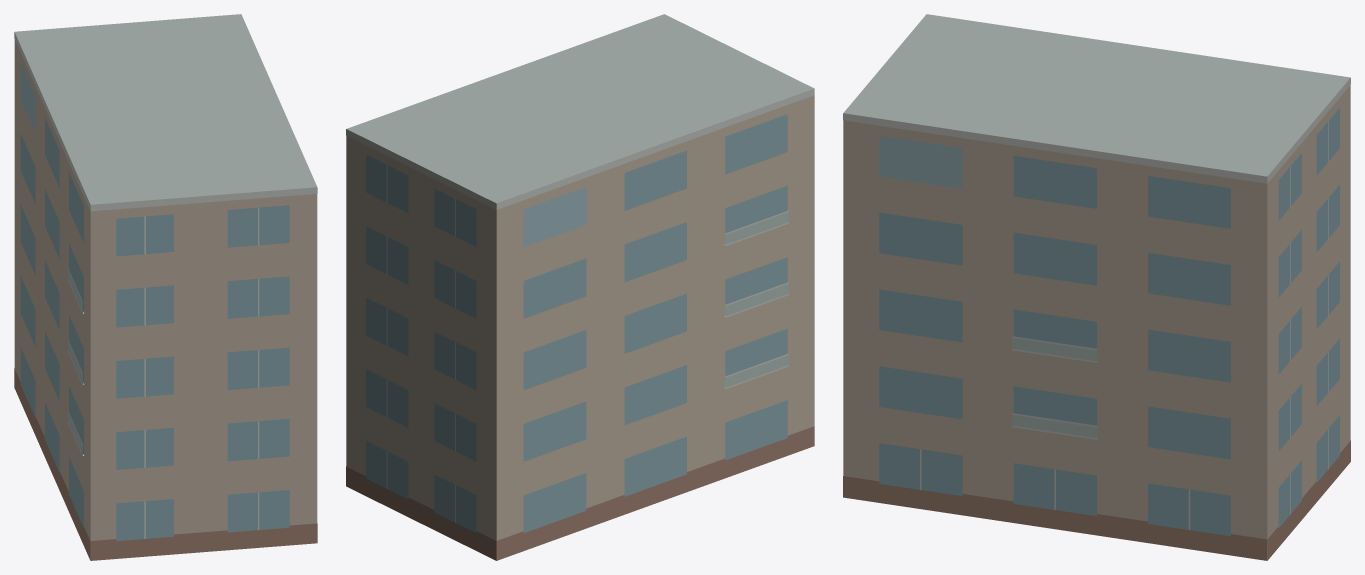
File: survey-upis-32894277.glb
3 renders of one model, left to right at view 1: azimuth 30°, elevation 25°; view 2: azimuth 150°, elevation 25°; view 3: azimuth 270°, elevation 25°, orthographic. The views are drawn at different scales.
Parts seen in each view (by area): view 1: survey-upis-32894277.tmp; view 2: survey-upis-32894277.tmp; view 3: survey-upis-32894277.tmp.
Part boxes in pixels (x1,y1,x2,y2): survey-upis-32894277.tmp: (14, 14, 317, 560); survey-upis-32894277.tmp: (346, 14, 814, 560); survey-upis-32894277.tmp: (843, 14, 1350, 560).
Bounding box in the file's own units: 11.99 × 13.2 × 15.81.
